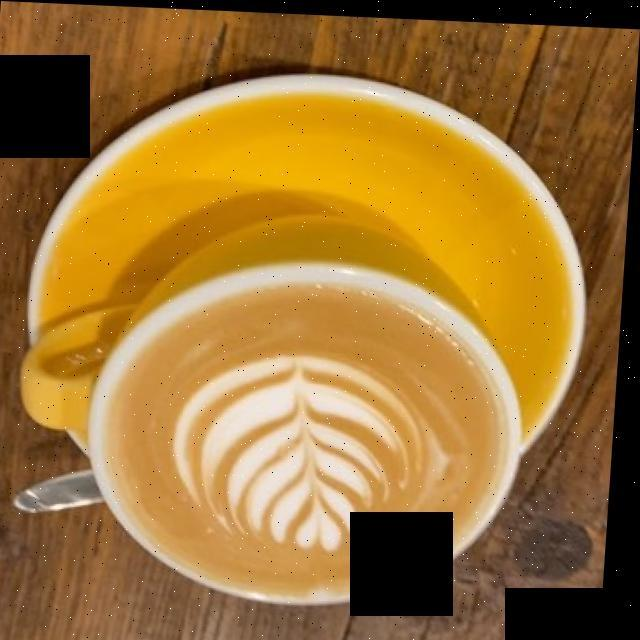cappuccino: (107, 274, 507, 592)
